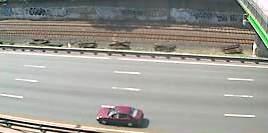car: (94, 104, 149, 128)
